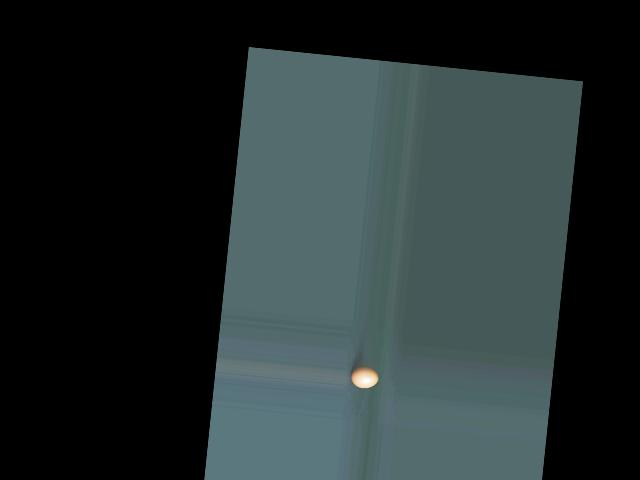egg: (349, 365, 379, 389)
